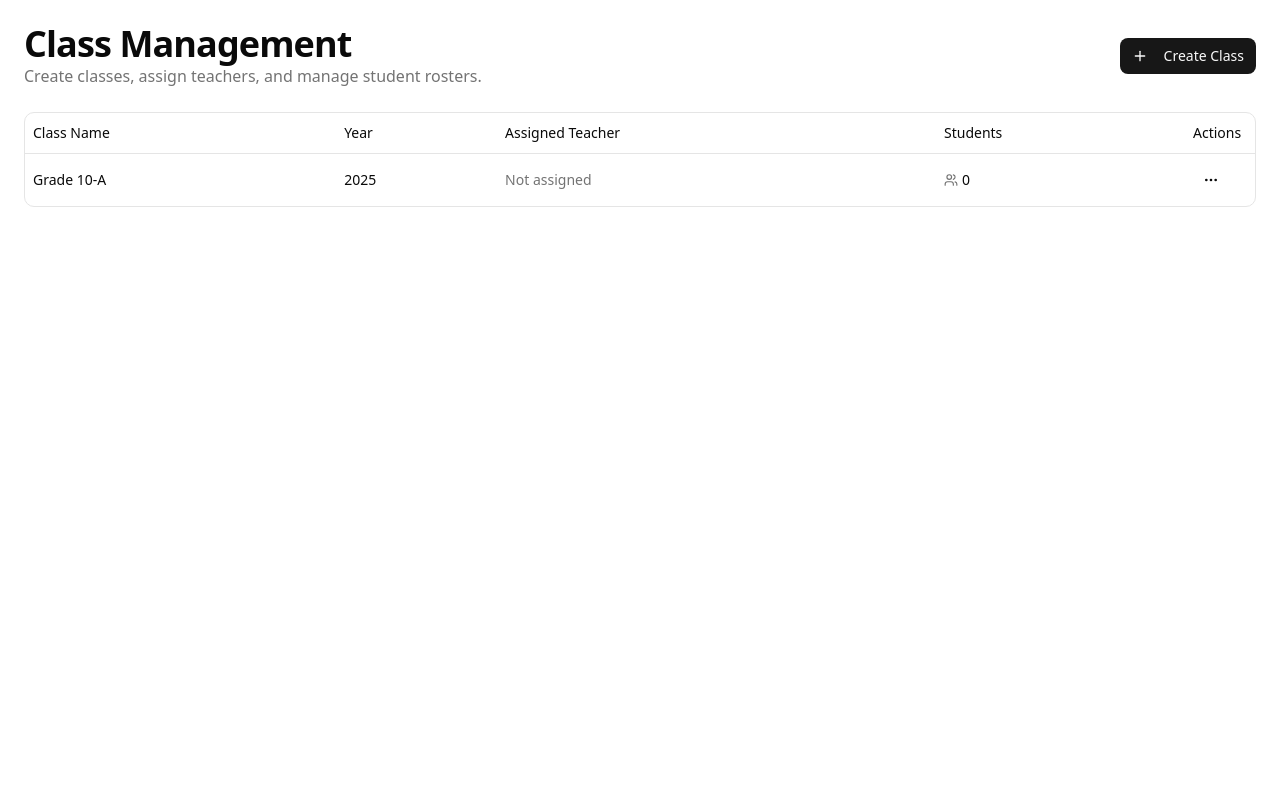
Subject Teachers modal — no assignments yet › shows empty state and an add form still usable
Expected: the text "Grade 10-A" is shown, [25,153,336,206]
Click the button named "open menu".
click(1211, 180)  # box [1193,162,1229,198]
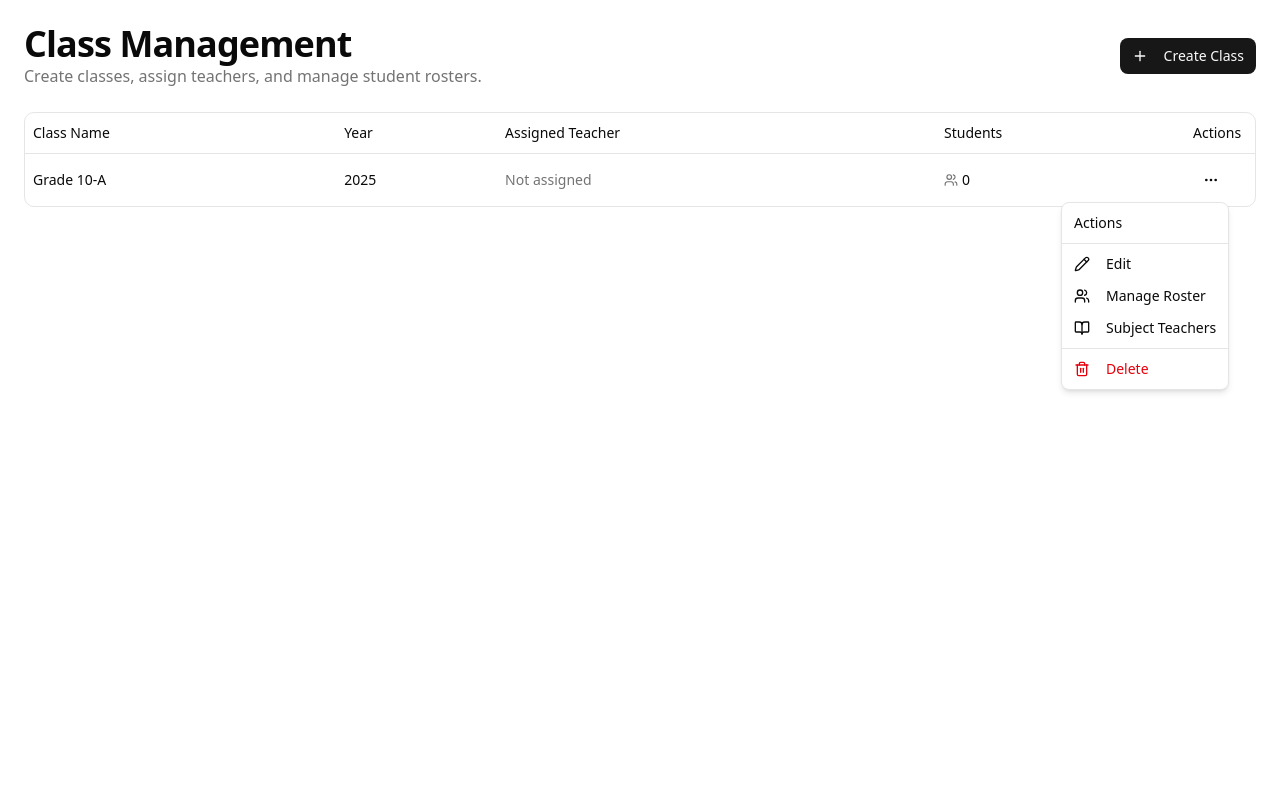
Click the menu item "Subject Teachers".
click(1145, 328)  # box [1074,318,1216,337]
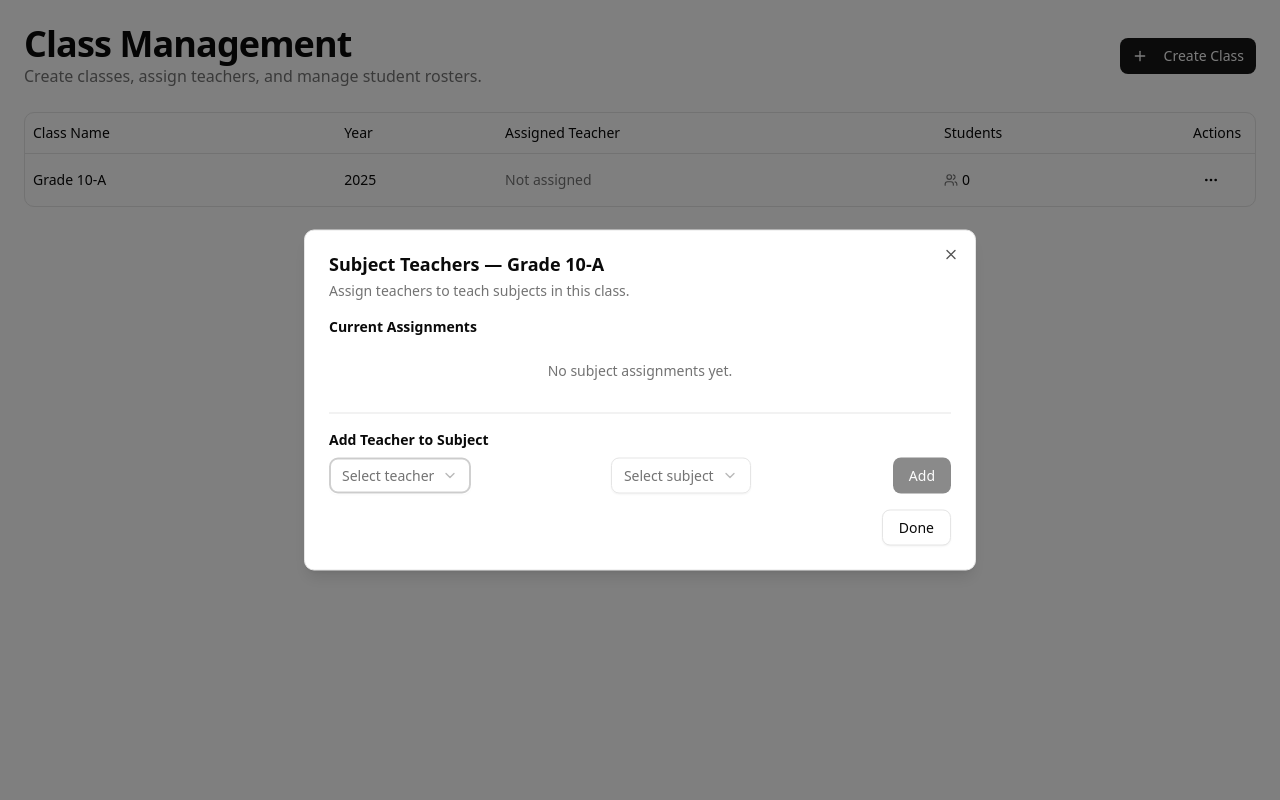
Now the heading "Subject Teachers — Grade 10-A" is shown, box [329,252,604,276]
Now the text "No subject assignments yet." is shown, box [548,360,732,380]
Now the dropdown labelled "teacher" is shown, box [329,458,471,494]
